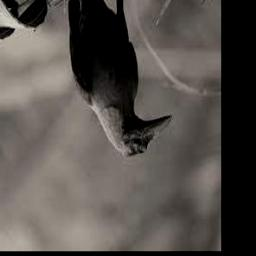Crow: (67, 0, 173, 158)
